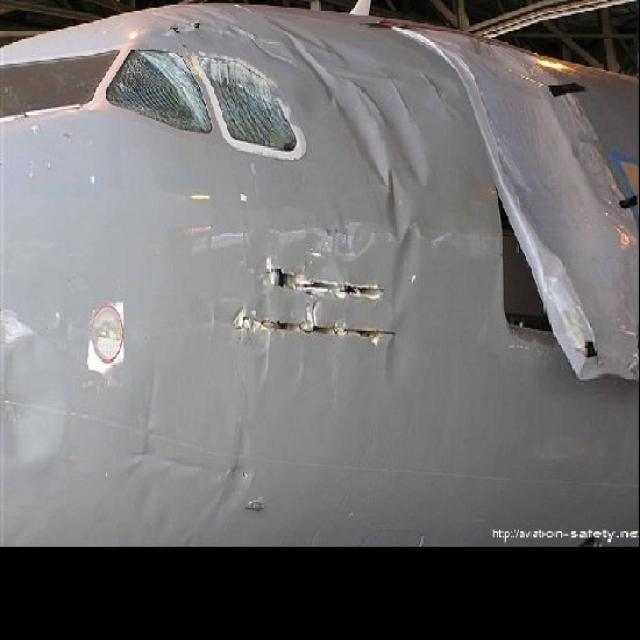crack: (223, 254, 405, 355)
